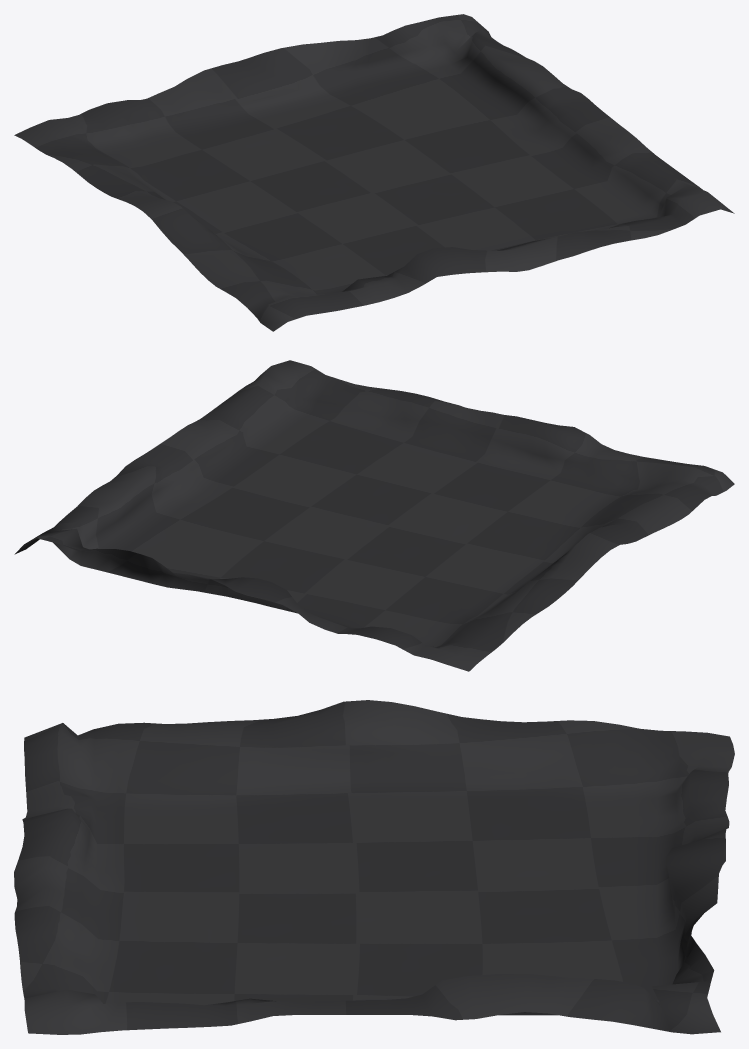
The model's file is terrain_test_tile_128m_2.gltf.
The picture shows the model from 3 angles, top to bottom: view 1: azimuth 30°, elevation 25°; view 2: azimuth 150°, elevation 25°; view 3: azimuth 270°, elevation 25°; orthographic projection. The views are drawn at different scales.
Parts seen in each view (by area): view 1: Landscape.010; view 2: Landscape.010; view 3: Landscape.010.
Boxes of the visible parts, x1=… form: Landscape.010: x1=14, y1=14, x2=734, y2=331; Landscape.010: x1=14, y1=360, x2=734, y2=671; Landscape.010: x1=14, y1=700, x2=734, y2=1034.
Bounding box in the file's own units: 847 × 64.2 × 844.
Materials: 1 (1 with a texture image).
